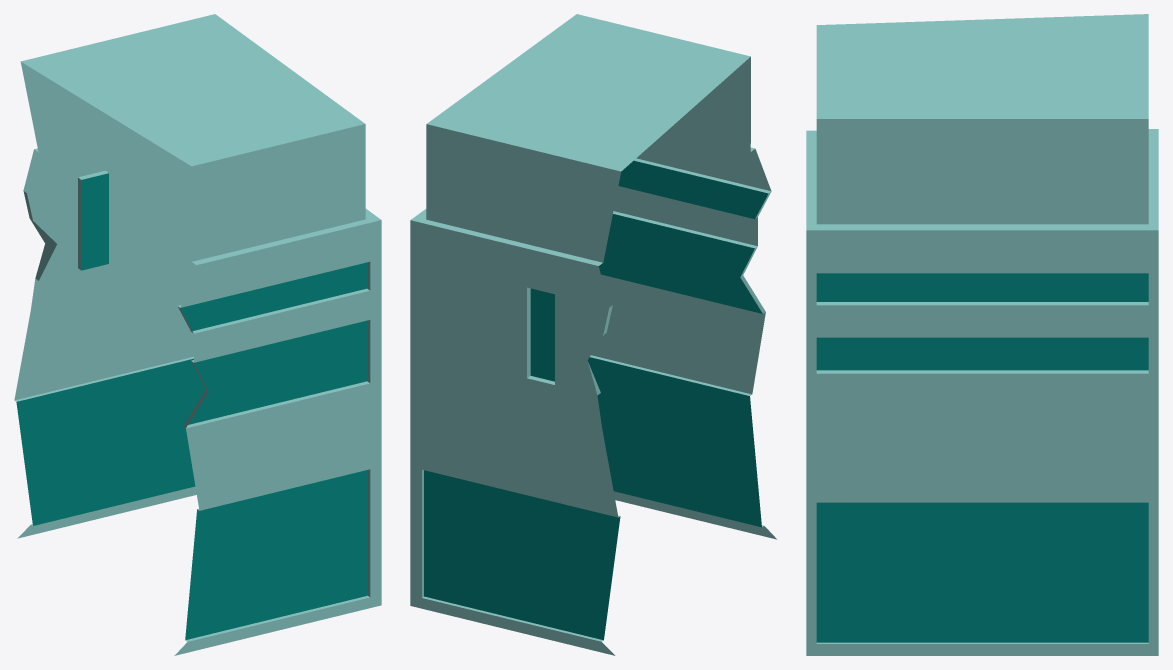
The model's file is ruines4.FBX.
3 views of the same model, side by side, from view 1: azimuth 30°, elevation 25°; view 2: azimuth 150°, elevation 25°; view 3: azimuth 270°, elevation 25° (orthographic). The views are drawn at different scales.
Visible parts, largest first — view 1: Box002; view 2: Box002; view 3: Box002.
Boxes of the visible parts, x1=… form: Box002: x1=14, y1=14, x2=381, y2=655; Box002: x1=410, y1=14, x2=776, y2=655; Box002: x1=806, y1=14, x2=1158, y2=655.
Size of the model in its own units: 44.45 by 98.25 by 59.06.
